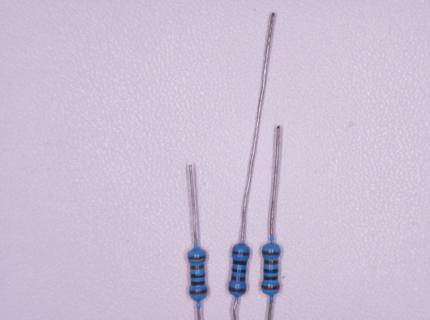Black band: (263, 268, 278, 274), (191, 273, 205, 278), (233, 260, 247, 265), (232, 268, 246, 273), (264, 276, 278, 281), (191, 281, 205, 285)
Brown band: (262, 284, 280, 290), (262, 249, 280, 255), (229, 287, 246, 293), (189, 289, 208, 294), (233, 250, 250, 255), (187, 255, 206, 259), (264, 259, 279, 264), (231, 276, 245, 281), (190, 264, 204, 269)
